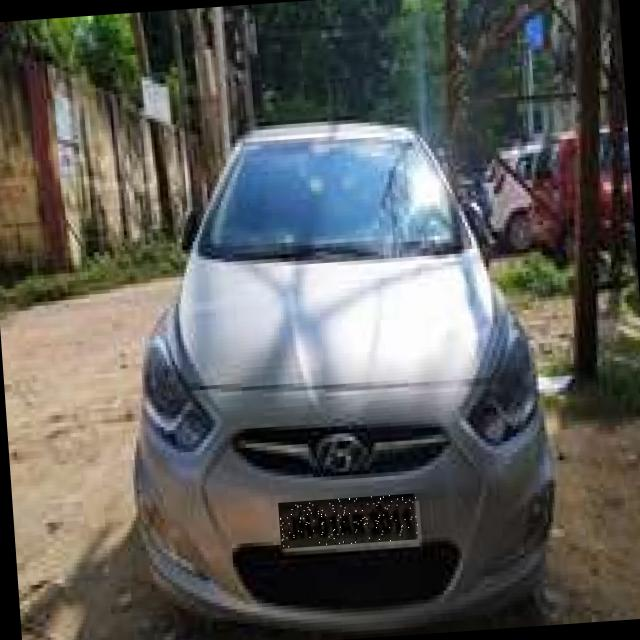Plate: (279, 494, 420, 549)
